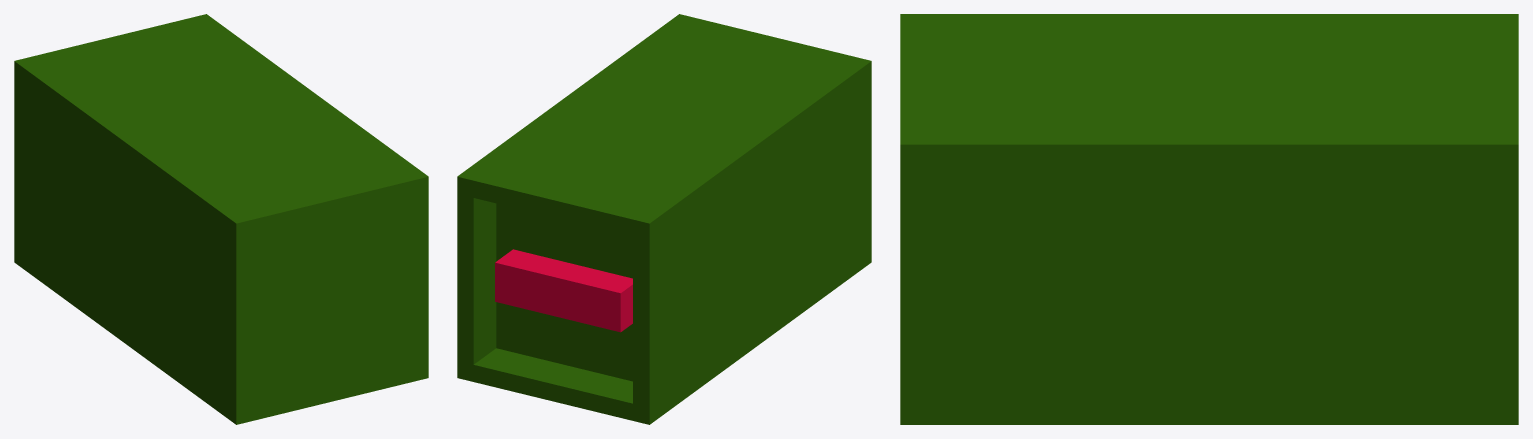
Rendered from lvl1_groundMiddle.fbx.
The picture shows the model from 3 angles, left to right: view 1: azimuth 30°, elevation 25°; view 2: azimuth 150°, elevation 25°; view 3: azimuth 270°, elevation 25°; orthographic projection. The views are drawn at different scales.
Parts seen in each view (by area): view 1: polySurface3; view 2: polySurface3; view 3: polySurface3.
Boxes of the visible parts, x1,y1,x2,y2 form: polySurface3: (14, 14, 428, 424); polySurface3: (457, 14, 871, 424); polySurface3: (900, 14, 1518, 424).
Bounding box in the file's own units: 100 × 100 × 200.
